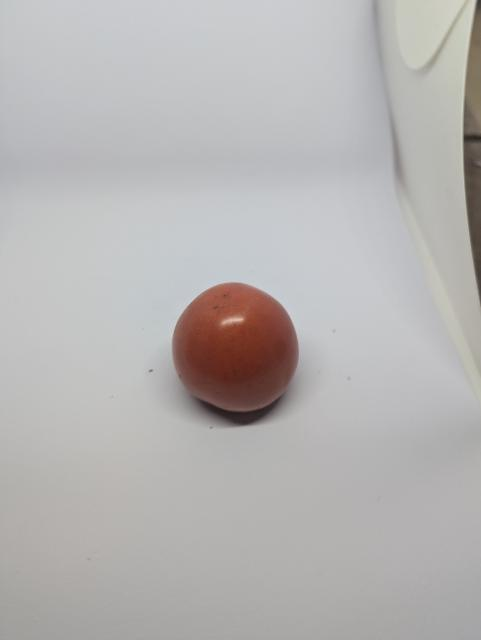red: (163, 276, 312, 430)
